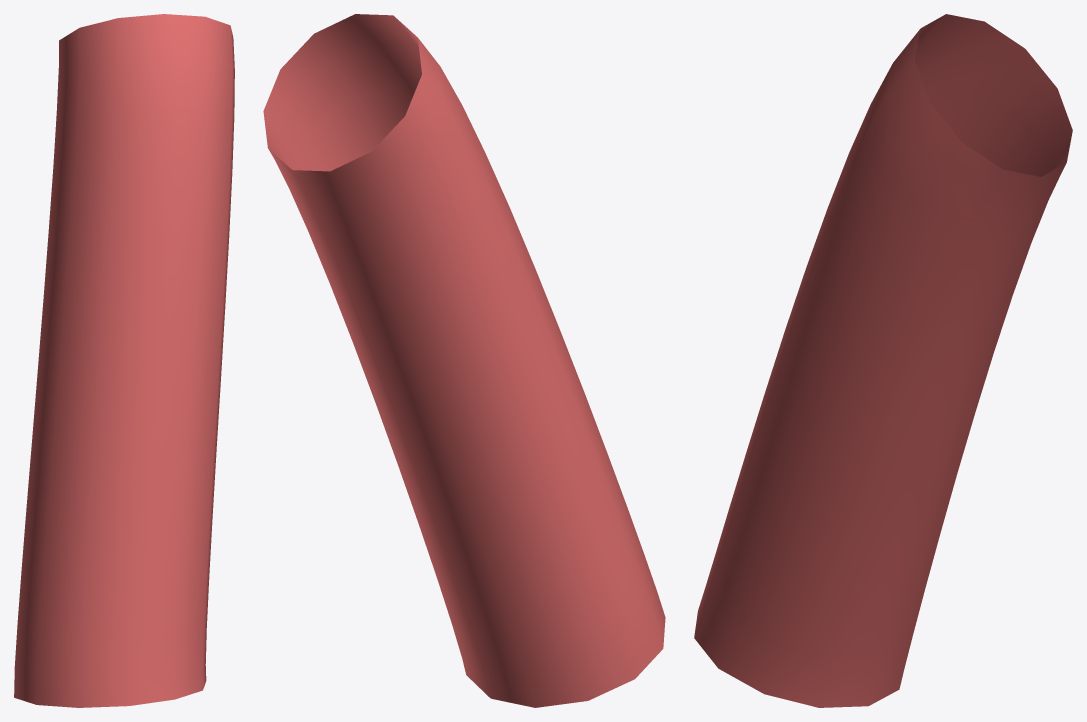
The model's file is Thyrocervical_trunk.l_BezierCurve.383.glb.
The picture shows the model from 3 angles, left to right: view 1: azimuth 30°, elevation 25°; view 2: azimuth 150°, elevation 25°; view 3: azimuth 270°, elevation 25°; orthographic projection. The views are drawn at different scales.
Parts seen in each view (by area): view 1: Thyrocervical_trunk.l_BezierCurve.383; view 2: Thyrocervical_trunk.l_BezierCurve.383; view 3: Thyrocervical_trunk.l_BezierCurve.383.
Boxes of the visible parts, x1,y1,x2,y2 form: Thyrocervical_trunk.l_BezierCurve.383: (14,14,234,707); Thyrocervical_trunk.l_BezierCurve.383: (263,14,665,707); Thyrocervical_trunk.l_BezierCurve.383: (694,14,1072,707).
Size of the model in its own units: 0.00361 by 0.00781 by 0.0038.
